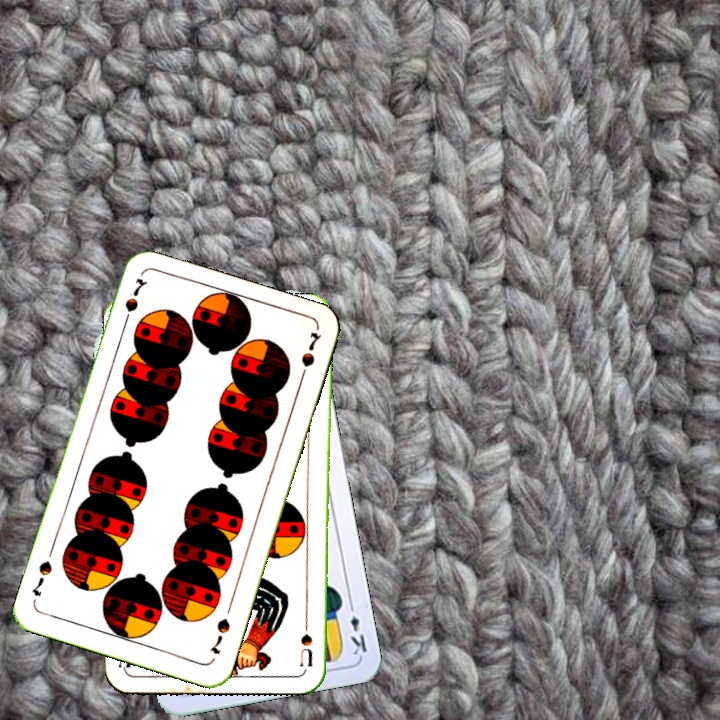EK: (345, 598, 370, 658)
S7: (119, 274, 150, 330), (206, 614, 233, 657)
SU: (296, 609, 315, 668)
